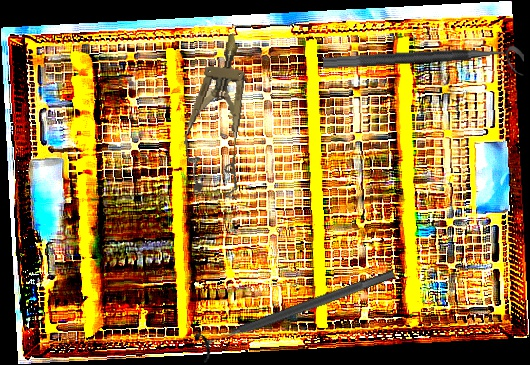Fixation Ring: (193, 258, 400, 365), (322, 45, 525, 87)
Speculum: (176, 29, 263, 200)
